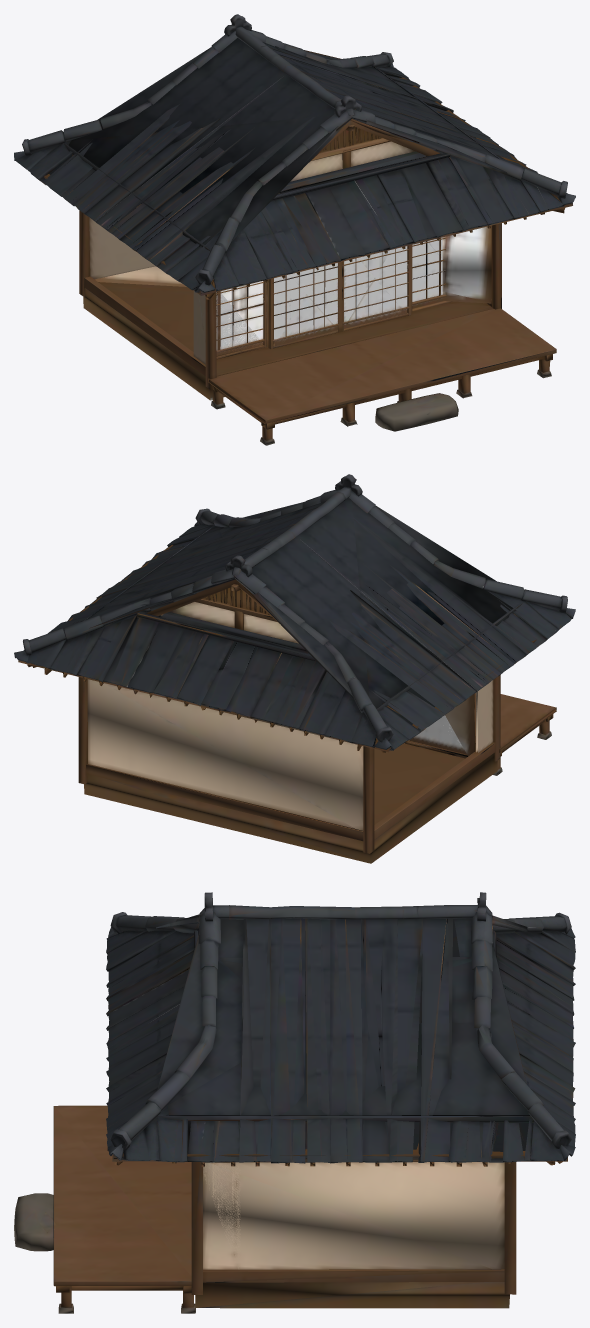
Rendered from house.glb.
The picture shows the model from 3 angles, top to bottom: view 1: azimuth 30°, elevation 25°; view 2: azimuth 150°, elevation 25°; view 3: azimuth 270°, elevation 25°; orthographic projection. The views are drawn at different scales.
Parts seen in each view (by area): view 1: geometry_0; view 2: geometry_0; view 3: geometry_0.
Boxes of the visible parts, x1,y1,x2,y2 form: geometry_0: [14, 14, 575, 445]; geometry_0: [14, 474, 575, 863]; geometry_0: [14, 892, 575, 1313].
Bounding box in the file's own units: 6.8 × 4.6 × 7.01.
Materials: 1 (1 with a texture image).
